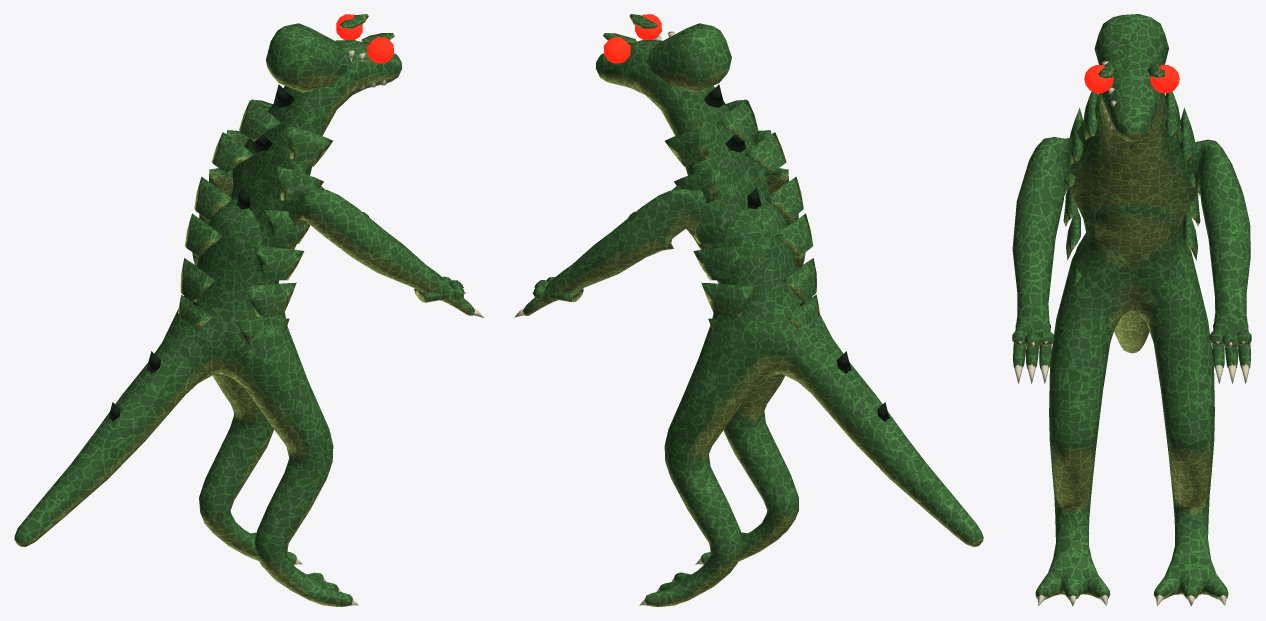
File: lizard-man.glb
3 views of the same model, side by side, from view 1: azimuth 30°, elevation 25°; view 2: azimuth 150°, elevation 25°; view 3: azimuth 270°, elevation 25° (orthographic). The views are drawn at different scales.
Parts seen in each view (by area): view 1: lizard-man.001; view 2: lizard-man.001; view 3: lizard-man.001.
Boxes of the visible parts, x1=… form: lizard-man.001: x1=14, y1=14, x2=483, y2=606; lizard-man.001: x1=514, y1=14, x2=983, y2=606; lizard-man.001: x1=1012, y1=14, x2=1251, y2=606.
Bounding box in the file's own units: 1.54 × 1.95 × 0.728.
4 materials, 1 textured.
